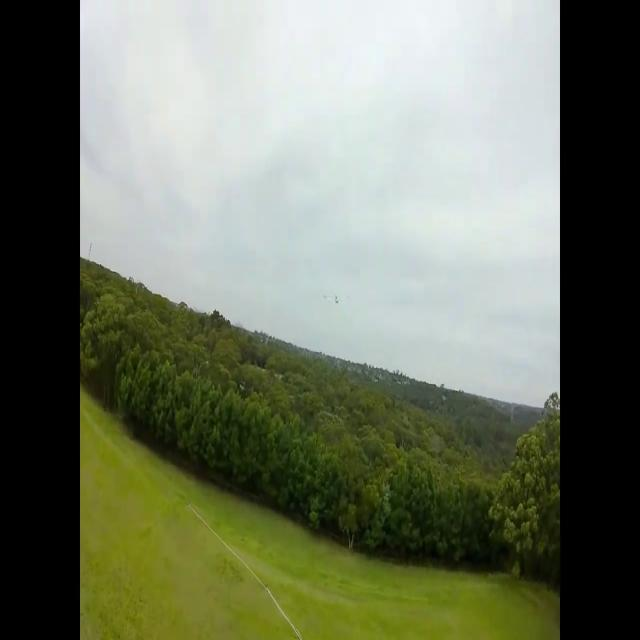iha: (324, 292, 350, 305)
